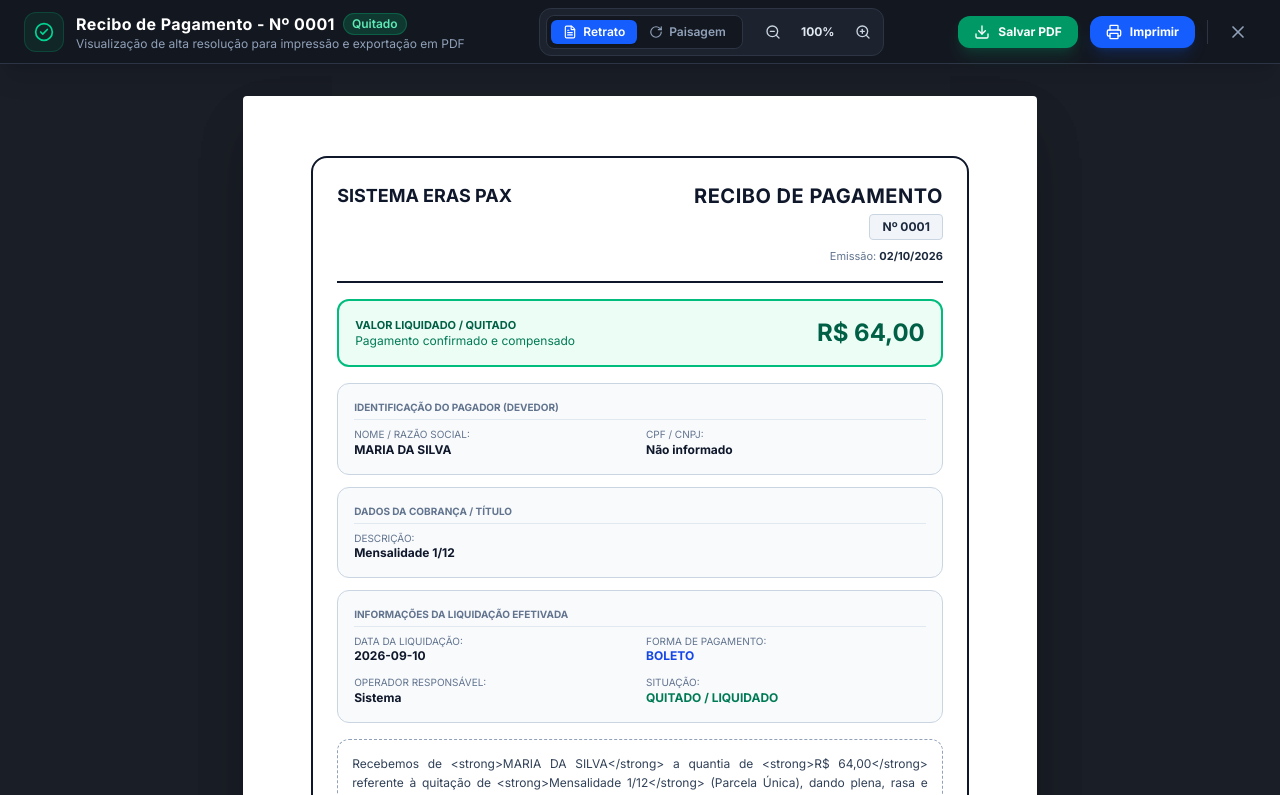
Test: VisualizadorReciboModal dentro de um formulário › o zoom continua funcionando depois da correção
Click the button titled "ampliar zoom" at (863, 32), box [849,18,877,46]
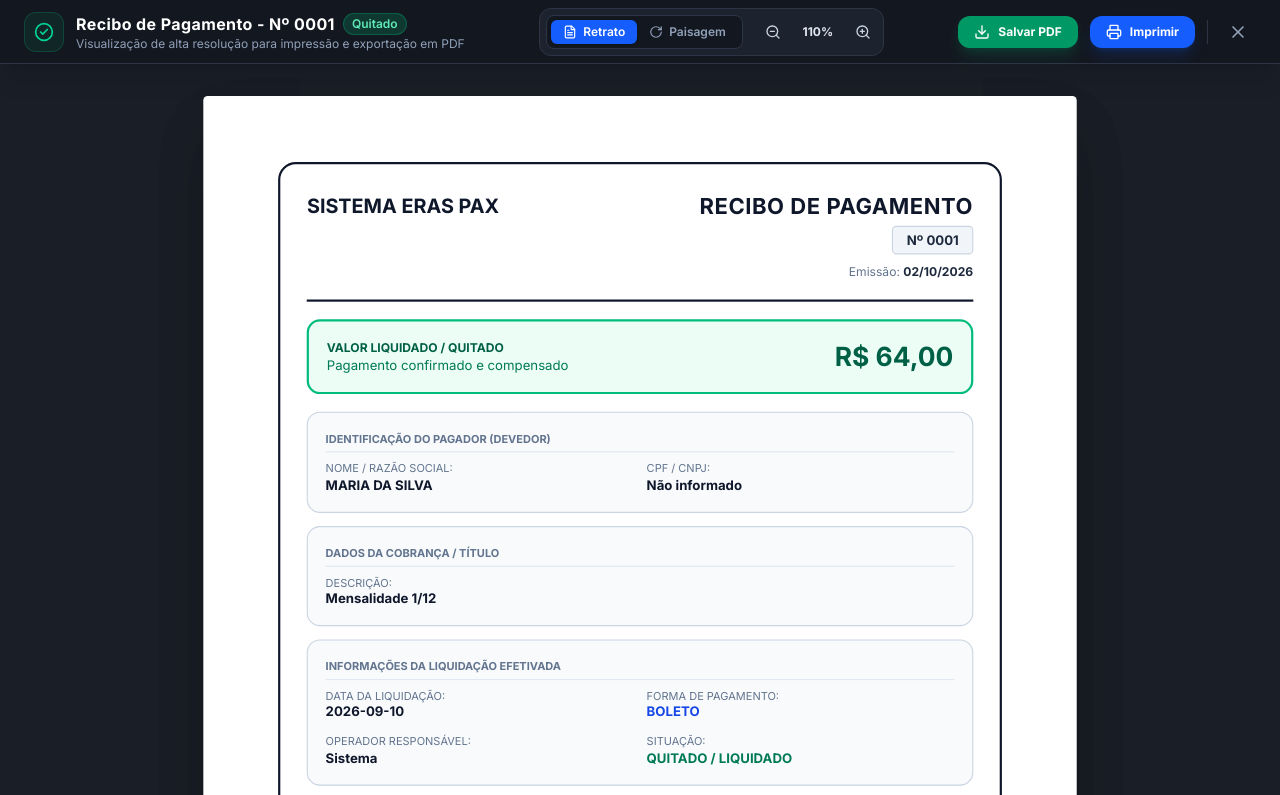
Expected: the button titled "resetar para 100%" no longer shows "100"
